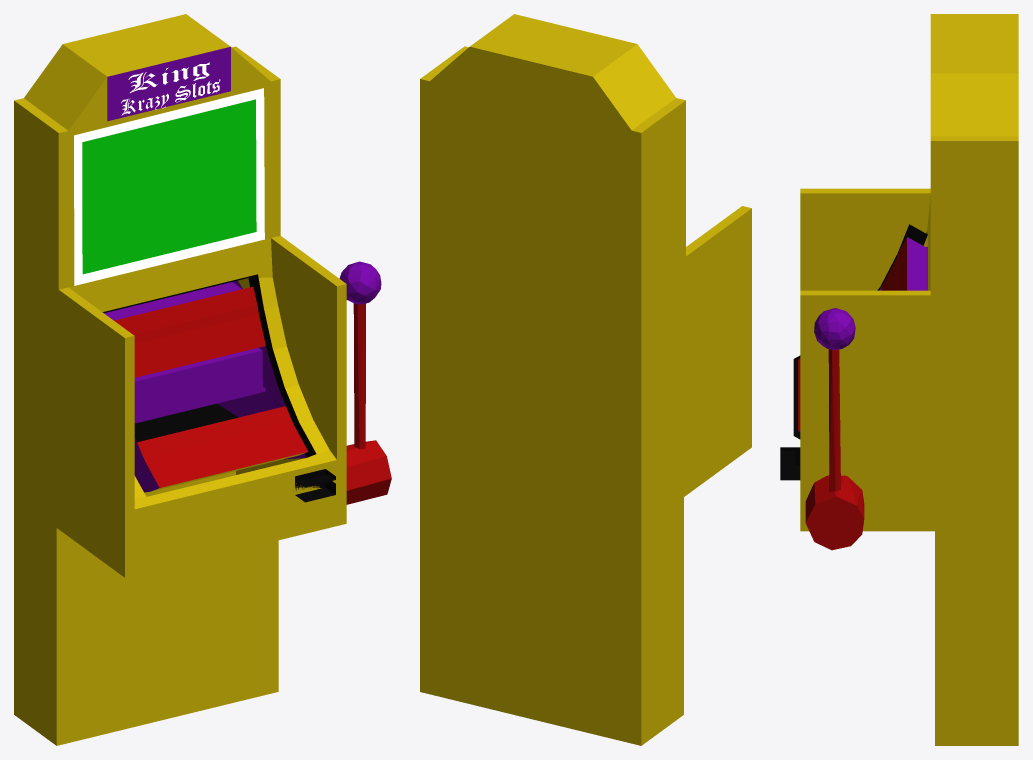
The model's file is Slot Machine - King - Battle.glb.
3 views of the same model, side by side, from view 1: azimuth 30°, elevation 25°; view 2: azimuth 150°, elevation 25°; view 3: azimuth 270°, elevation 25° (orthographic).
Parts seen in each view (by area): view 1: Slot Machine, Pull Handle, Labels; view 2: Slot Machine; view 3: Slot Machine, Pull Handle.
Part boxes in pixels (bbox=[...]): Slot Machine: bbox=[14, 14, 346, 745]; Pull Handle: bbox=[339, 261, 391, 504]; Labels: bbox=[121, 62, 220, 115]; Slot Machine: bbox=[420, 14, 751, 745]; Slot Machine: bbox=[780, 14, 1018, 745]; Pull Handle: bbox=[805, 308, 864, 550].
Size of what is drawn, in the model's own units: 0.8369 by 1.95 by 0.6478.
